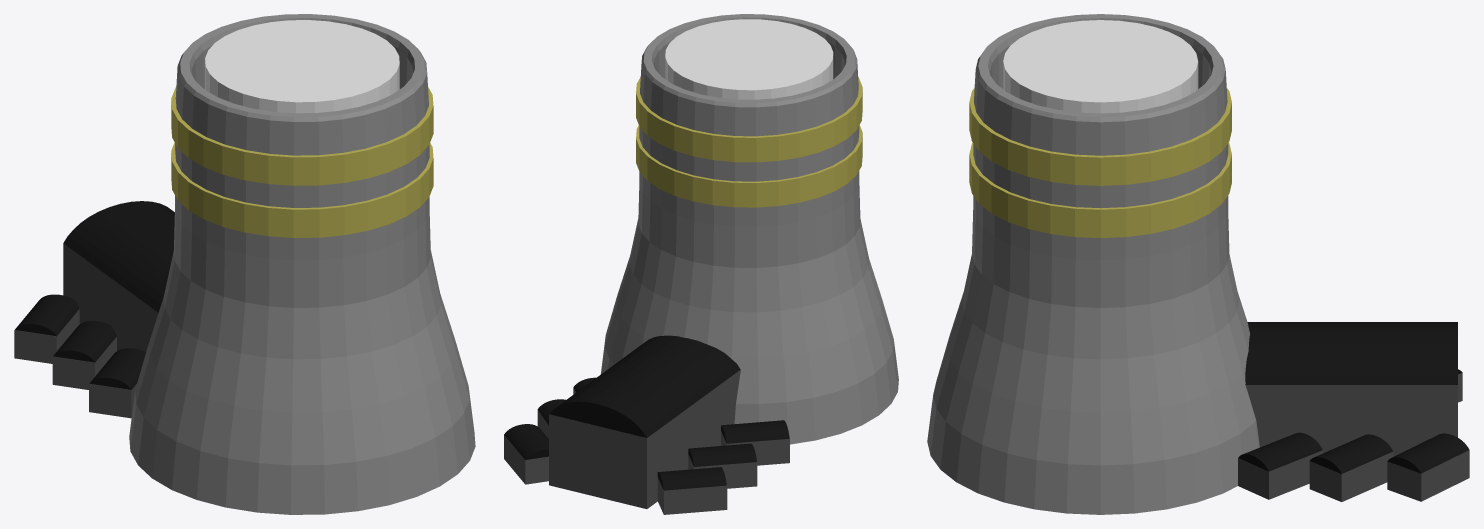
The model's file is ReacteurNucleaire.fbx.
The picture shows the model from 3 angles, left to right: view 1: azimuth 30°, elevation 25°; view 2: azimuth 150°, elevation 25°; view 3: azimuth 270°, elevation 25°; orthographic projection. The views are drawn at different scales.
Parts seen in each view (by area): view 1: Cylinder, Cylinder.001, Cylinder.002, Cylinder.003, Cylinder.004, Cube, Cylinder.008, Cylinder.009, Cube.004, Cylinder.010, Cube.005, Cube.006; view 2: Cylinder, Cube, Cylinder.001, Cylinder.004, Cylinder.002, Cylinder.003, Cube.004, Cylinder.008, Cylinder.009, Cylinder.010, Cylinder.007, Cube.003 (+2 smaller); view 3: Cylinder, Cylinder.001, Cylinder.004, Cube, Cylinder.002, Cylinder.003, Cube.003, Cube.002, Cube.001, Cylinder.005, Cylinder.006, Cylinder.007.
Part boxes in pixels (x1,y1,x2,y2): Cylinder: (129,14,475,514); Cylinder.001: (205,20,399,113); Cylinder.002: (171,87,433,185); Cylinder.003: (171,142,433,237); Cylinder.004: (63,201,174,312); Cube: (63,243,158,351); Cylinder.008: (15,294,79,336); Cylinder.009: (53,321,116,362); Cube.004: (14,309,79,363); Cylinder.010: (89,348,145,389); Cube.005: (52,337,116,389); Cube.006: (89,383,136,418); Cylinder: (600,14,898,444); Cube: (549,369,740,508); Cylinder.001: (665,19,833,99); Cylinder.004: (549,335,740,437); Cylinder.002: (636,77,862,162); Cylinder.003: (636,125,862,207); Cube.004: (657,477,727,514); Cylinder.008: (657,467,726,490); Cylinder.009: (688,443,756,466); Cylinder.010: (721,420,789,443); Cylinder.007: (504,424,548,459); Cube.003: (504,435,548,484); Cylinder: (927,14,1259,514); Cylinder.001: (1003,20,1198,113); Cylinder.004: (1245,322,1457,384); Cube: (1245,385,1457,456); Cylinder.002: (969,88,1231,185); Cylinder.003: (969,142,1231,238); Cube.003: (1387,450,1469,501); Cube.002: (1309,451,1393,501); Cube.001: (1238,450,1323,499); Cylinder.005: (1238,432,1322,471); Cylinder.006: (1310,434,1392,473); Cylinder.007: (1387,433,1469,473).
Size of the model in its own units: 973 by 1178 by 1522.
